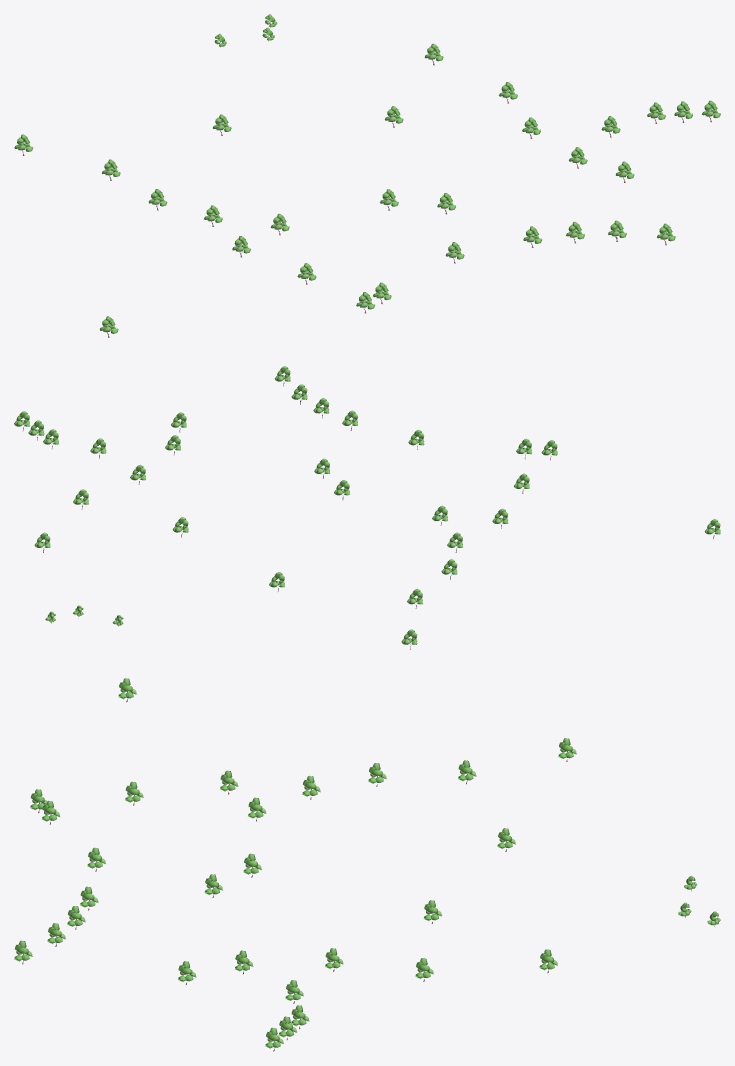
The model's file is Treev1.glb.
3 renders of one model, top to bottom at view 1: azimuth 30°, elevation 25°; view 2: azimuth 150°, elevation 25°; view 3: azimuth 270°, elevation 25°, orthographic. The views are drawn at different scales.
Parts seen in each view (by area): view 1: Tree v1; view 2: Tree v1; view 3: Tree v1.
Boxes of the visible parts, <box> form: Tree v1: <box>14,14,720,337</box>; Tree v1: <box>14,366,720,649</box>; Tree v1: <box>14,678,720,1051</box>.
Size of the model in its own units: 2261 by 80.71 by 1876.
1 material, 1 textured.
